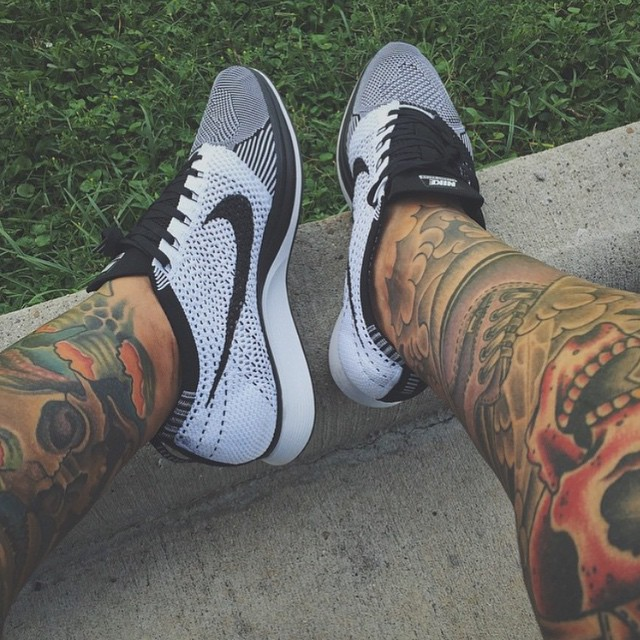sneaker: (77, 50, 329, 487), (314, 24, 497, 447)
